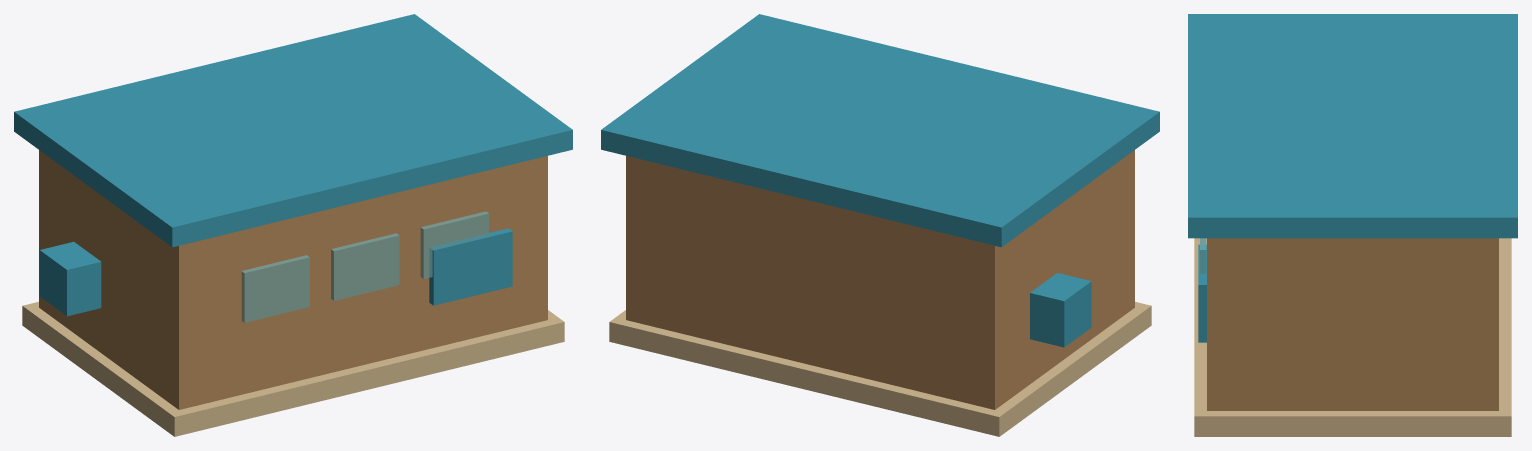
Rendered from seed-laboratory.source.glb.
3 views of the same model, side by side, from view 1: azimuth 30°, elevation 25°; view 2: azimuth 150°, elevation 25°; view 3: azimuth 270°, elevation 25° (orthographic). The views are drawn at different scales.
Visible parts, largest first — view 1: seed-laboratory-lab-body-mesh, seed-laboratory-shallow-roof-mesh, seed-laboratory-foundation-mesh, seed-laboratory-reception-hatch-mesh, seed-laboratory-air-intake-mesh, seed-laboratory-inspection-window--0.85-mesh, seed-laboratory-inspection-window-0-mesh, seed-laboratory-inspection-window-0.85-mesh; view 2: seed-laboratory-lab-body-mesh, seed-laboratory-shallow-roof-mesh, seed-laboratory-foundation-mesh, seed-laboratory-air-intake-mesh; view 3: seed-laboratory-shallow-roof-mesh, seed-laboratory-lab-body-mesh, seed-laboratory-foundation-mesh, seed-laboratory-reception-hatch-mesh.
Boxes of the visible parts, x1,y1,x2,y2 form: seed-laboratory-lab-body-mesh: (39, 150, 547, 409); seed-laboratory-shallow-roof-mesh: (14, 14, 572, 247); seed-laboratory-foundation-mesh: (22, 301, 564, 436); seed-laboratory-reception-hatch-mesh: (429, 228, 512, 305); seed-laboratory-air-intake-mesh: (39, 241, 101, 316); seed-laboratory-inspection-window--0.85-mesh: (241, 255, 309, 322); seed-laboratory-inspection-window-0-mesh: (331, 233, 399, 300); seed-laboratory-inspection-window-0.85-mesh: (420, 211, 488, 278); seed-laboratory-lab-body-mesh: (626, 150, 1134, 409); seed-laboratory-shallow-roof-mesh: (601, 14, 1159, 247); seed-laboratory-foundation-mesh: (609, 301, 1151, 436); seed-laboratory-air-intake-mesh: (1030, 273, 1091, 347); seed-laboratory-shallow-roof-mesh: (1188, 14, 1517, 238); seed-laboratory-lab-body-mesh: (1207, 238, 1498, 410); seed-laboratory-foundation-mesh: (1194, 238, 1511, 436); seed-laboratory-reception-hatch-mesh: (1198, 244, 1206, 342).
Size of the model in its own units: 3.97 by 1.93 by 2.6.
